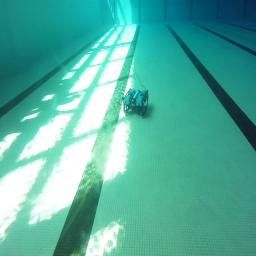front: (123, 88, 148, 116)
